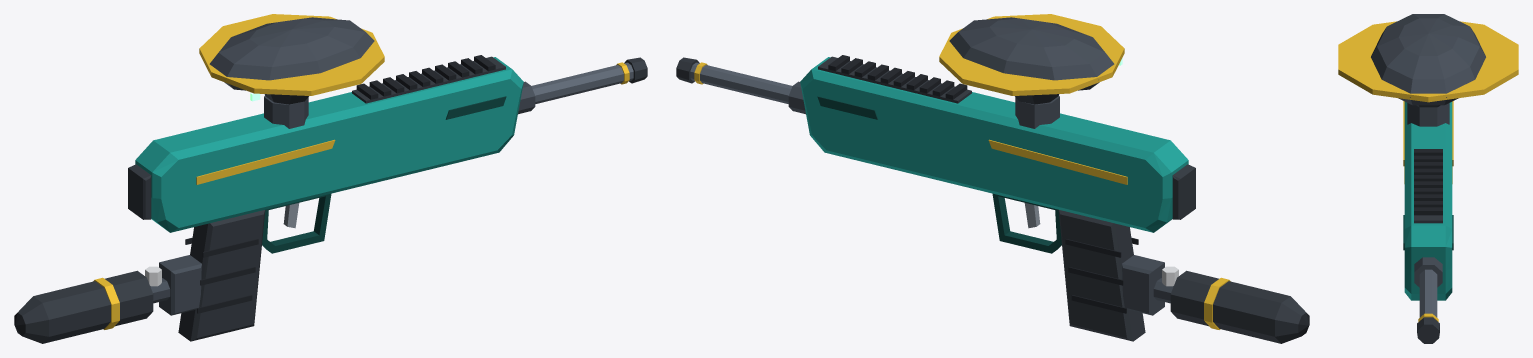
File: vanta_factory.glb
3 renders of one model, left to right at view 1: azimuth 30°, elevation 25°; view 2: azimuth 150°, elevation 25°; view 3: azimuth 270°, elevation 25°, orthographic.
Visible parts, largest first — view 1: vanta_factory; view 2: vanta_factory; view 3: vanta_factory.
Boxes of the visible parts, box(x1,y1,x2,y2) form: vanta_factory: box(14, 14, 647, 343); vanta_factory: box(676, 14, 1309, 343); vanta_factory: box(1338, 14, 1518, 343).
Size of the model in its own units: 0.77 by 0.33 by 0.1883.
